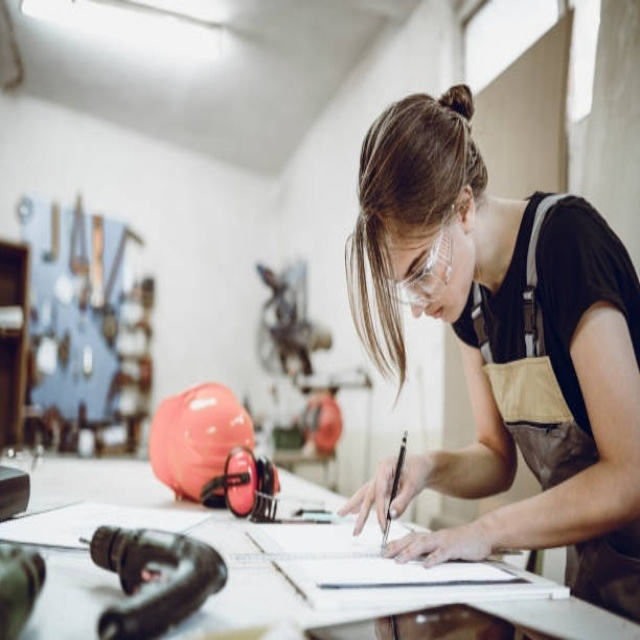Gafas: (383, 202, 459, 311)
Sin_guantes: (339, 453, 420, 541), (389, 518, 494, 569)
Sin_mascara: (414, 293, 459, 334)
